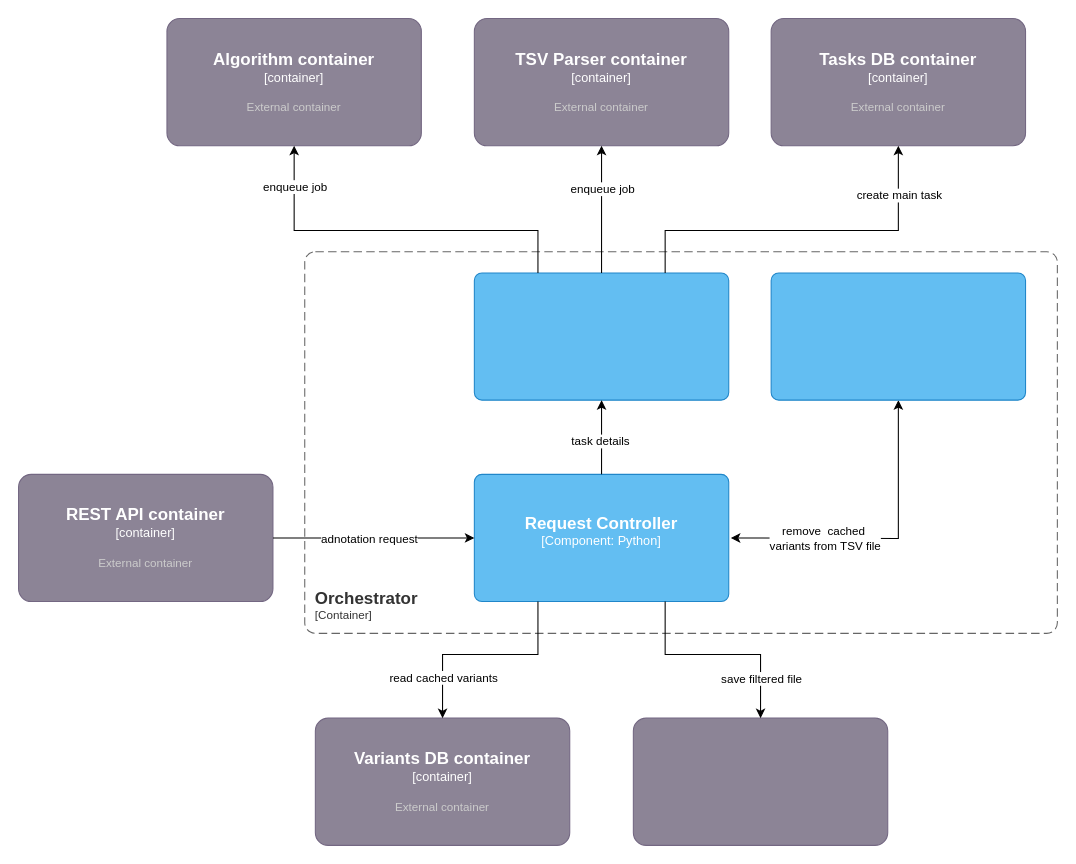
The diagram is 1076 pixels wide and 864 high, and some of its shapes have lost their labels. The shapes that lost their labels are listed below. From the top down, each one's centre as x and y in pixels, then its label:
At (601,336): "Task Producer [Component: Python]".
At (898,336): "File Filter [Component: Python]".
At (760,781): "File system container [container] External container".
